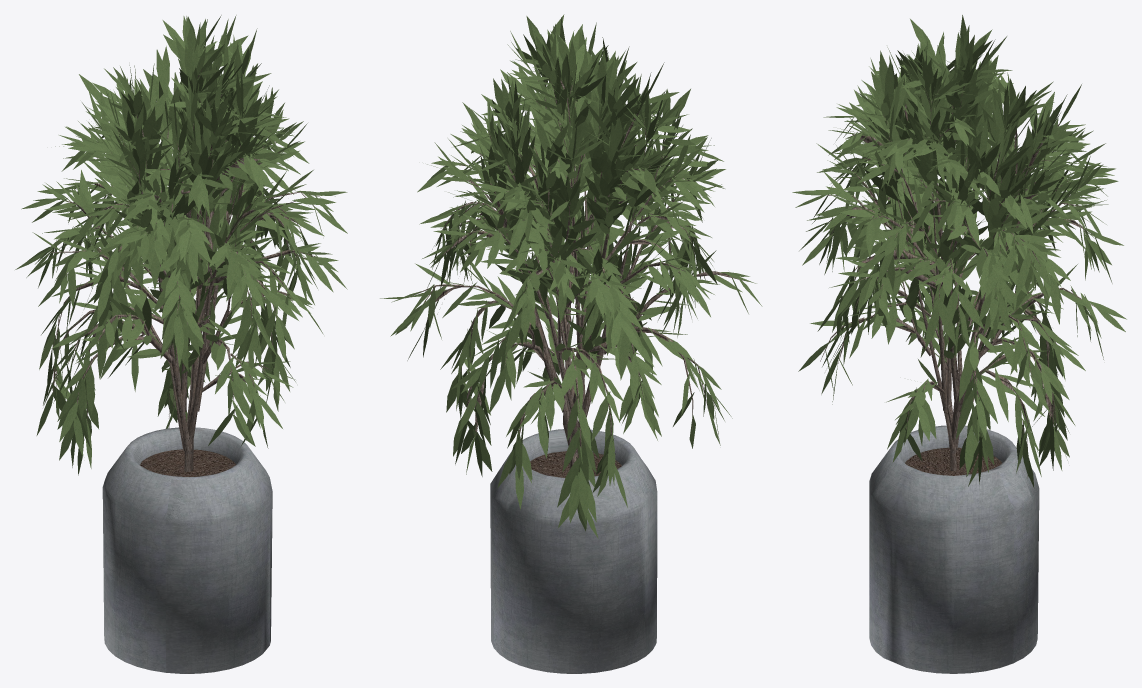
Rendered from office-pottedtree.glb.
3 renders of one model, left to right at view 1: azimuth 30°, elevation 25°; view 2: azimuth 150°, elevation 25°; view 3: azimuth 270°, elevation 25°, orthographic.
Parts seen in each view (by area): view 1: Cylinder_Leaves_0, Cylinder_PotMaterial_0, tree_Trunk_0, Cylinder_DirtMat_0; view 2: Cylinder_Leaves_0, Cylinder_PotMaterial_0, tree_Trunk_0, Cylinder_DirtMat_0; view 3: Cylinder_Leaves_0, Cylinder_PotMaterial_0, tree_Trunk_0, Cylinder_DirtMat_0.
Boxes of the visible parts, <box> form: Cylinder_Leaves_0: <box>15,15,347,475</box>; Cylinder_PotMaterial_0: <box>102,427,272,673</box>; tree_Trunk_0: <box>50,68,320,471</box>; Cylinder_DirtMat_0: <box>140,449,235,476</box>; Cylinder_Leaves_0: <box>380,14,762,538</box>; Cylinder_PotMaterial_0: <box>490,429,657,673</box>; tree_Trunk_0: <box>408,72,747,477</box>; Cylinder_DirtMat_0: <box>530,451,621,477</box>; Cylinder_Leaves_0: <box>792,15,1126,488</box>; Cylinder_PotMaterial_0: <box>869,425,1039,673</box>; tree_Trunk_0: <box>820,64,1096,478</box>; Cylinder_DirtMat_0: <box>905,447,1001,475</box>.
Size of the model in its own units: 3.98 by 7.93 by 3.92.
4 materials, 4 textured.
